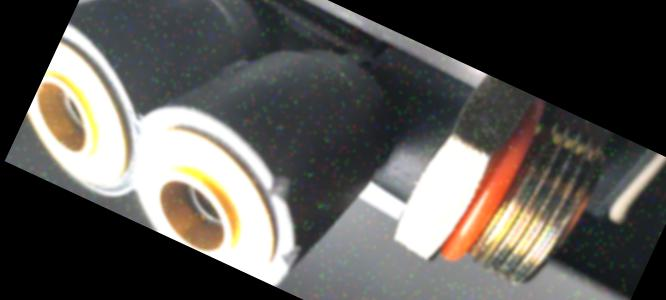bump: (254, 162, 303, 210), (271, 233, 312, 281)
joint line: (381, 156, 412, 179)
white mark: (406, 177, 420, 192)
